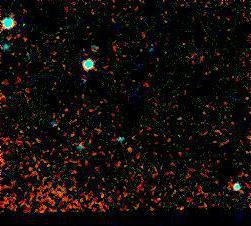star: (115, 134, 145, 164)
